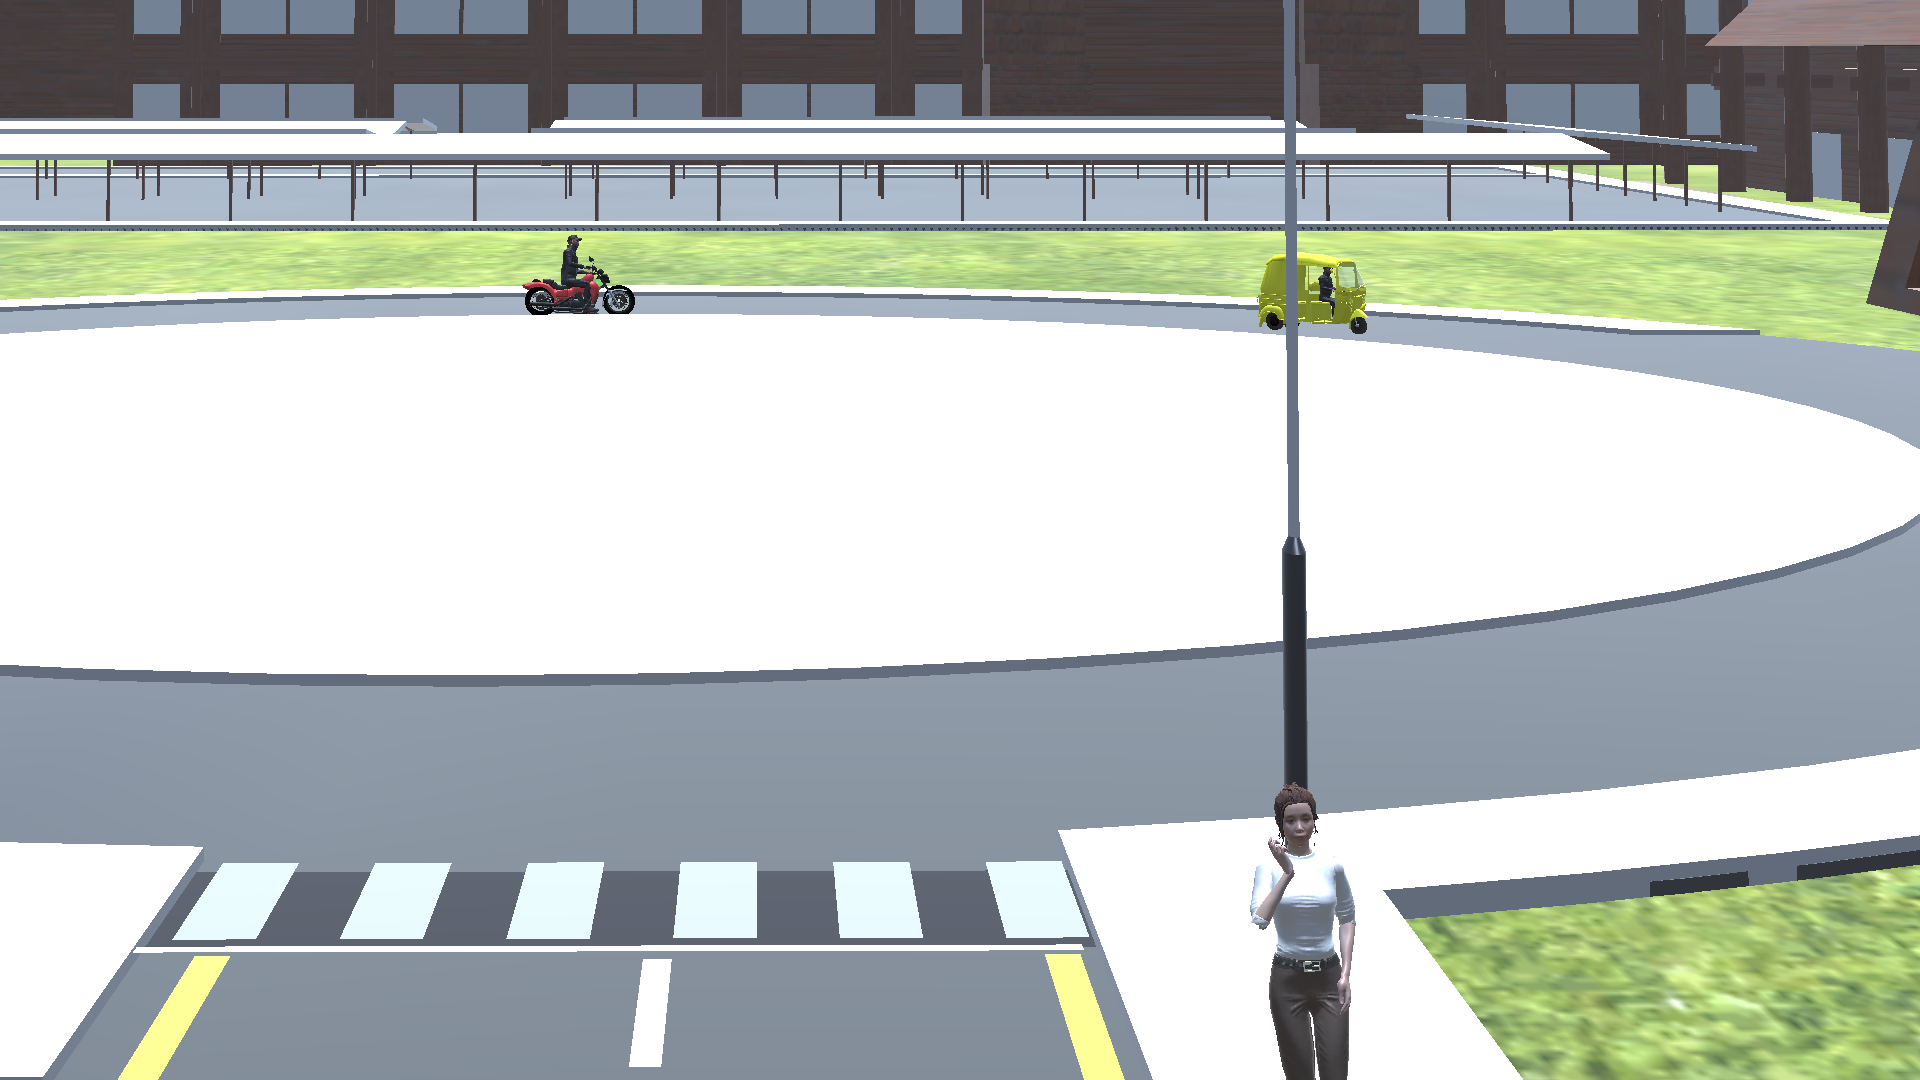pedestrian: (1241, 778, 1369, 1079)
